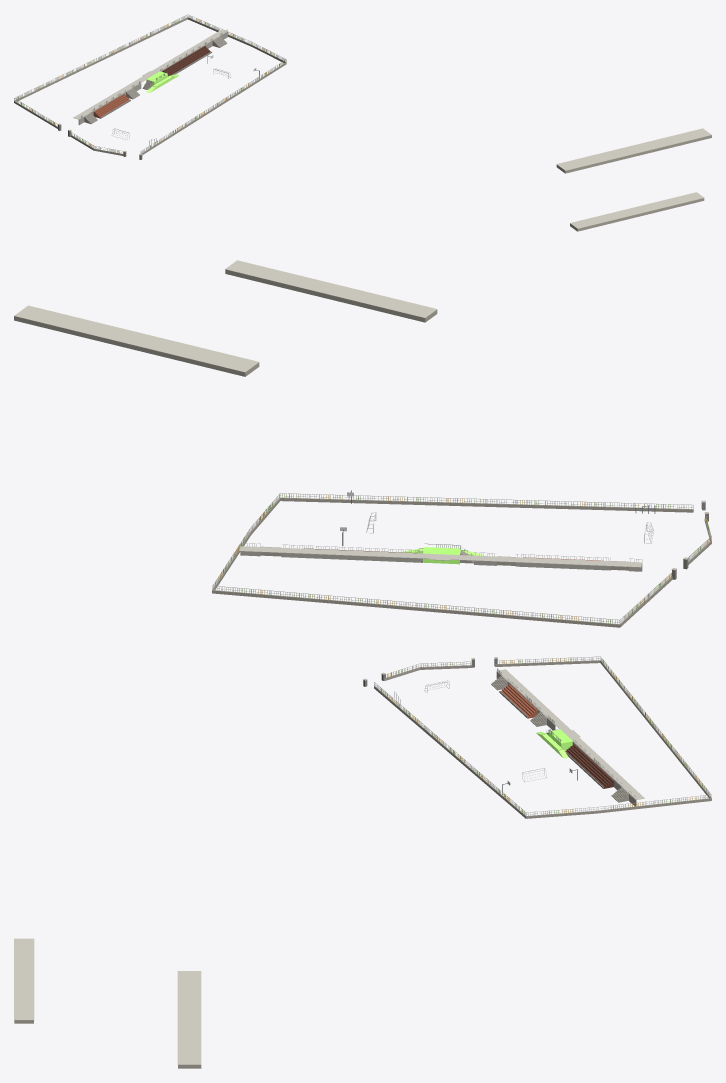
The picture shows the model from 3 angles, top to bottom: view 1: azimuth 30°, elevation 25°; view 2: azimuth 150°, elevation 25°; view 3: azimuth 270°, elevation 25°; orthographic projection. The views are drawn at different scales.
Visible parts, largest first — view 1: site-harbor-edge, site-wall-concrete, site-harbor-quay, site-terrace-deck, site-fence, site-terrace-seating, site-stairs, site-fence-white, site-fence-green; view 2: site-harbor-edge, site-wall-concrete, site-terrace-deck, site-harbor-quay, site-fence, site-terrace-wall, site-fence-white, site-fence-green, site-fence-yellow, site-terrace-rail; view 3: site-harbor-edge, site-wall-concrete, site-terrace-deck, site-fence, site-terrace-seating.
Part boxes in pixels (bbox=[...]): site-harbor-edge: bbox=[556, 128, 711, 228]; site-wall-concrete: bbox=[14, 17, 286, 155]; site-harbor-quay: bbox=[556, 135, 711, 231]; site-terrace-deck: bbox=[73, 29, 226, 119]; site-fence: bbox=[14, 14, 286, 152]; site-terrace-seating: bbox=[162, 46, 210, 76]; site-stairs: bbox=[84, 36, 227, 123]; site-fence-white: bbox=[15, 15, 285, 153]; site-fence-green: bbox=[16, 19, 284, 152]; site-harbor-edge: bbox=[14, 260, 437, 372]; site-wall-concrete: bbox=[212, 497, 711, 627]; site-terrace-deck: bbox=[239, 546, 642, 567]; site-harbor-quay: bbox=[14, 270, 437, 376]; site-fence: bbox=[212, 493, 711, 623]; site-terrace-wall: bbox=[240, 551, 642, 571]; site-fence-white: bbox=[213, 494, 711, 623]; site-fence-green: bbox=[223, 494, 708, 623]; site-fence-yellow: bbox=[217, 495, 710, 620]; site-terrace-rail: bbox=[240, 542, 642, 561]; site-harbor-edge: bbox=[14, 938, 201, 1064]; site-wall-concrete: bbox=[374, 660, 711, 818]; site-terrace-deck: bbox=[498, 669, 644, 799]; site-fence: bbox=[374, 656, 711, 815]; site-terrace-seating: bbox=[565, 744, 613, 788].
Bounding box in the file's own units: 245 × 25.18 × 211.
